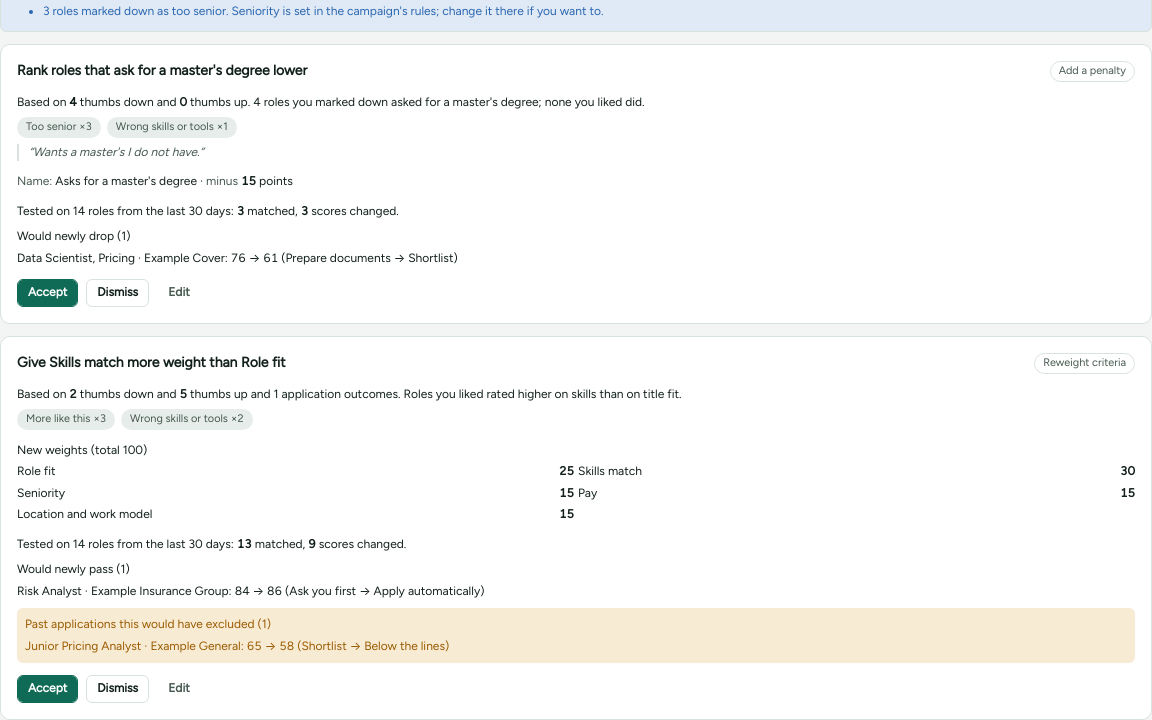
Test: suggestions › dismisses a suggestion, analyses for new ones, and shows owner-only notes as info
(page scrolled)
Check: the list item "3 roles marked down as too senior" is shown, box [43, 4, 603, 18]
Check: the element "Give Skills match more weight than Role fit" shows "Past applications this would have excluded (1)", box [0, 336, 1151, 719]
Step 1. Click the button "Dismiss" below "Junior Pricing Analyst" → (118, 689), box [86, 675, 149, 703]
(page scrolled)
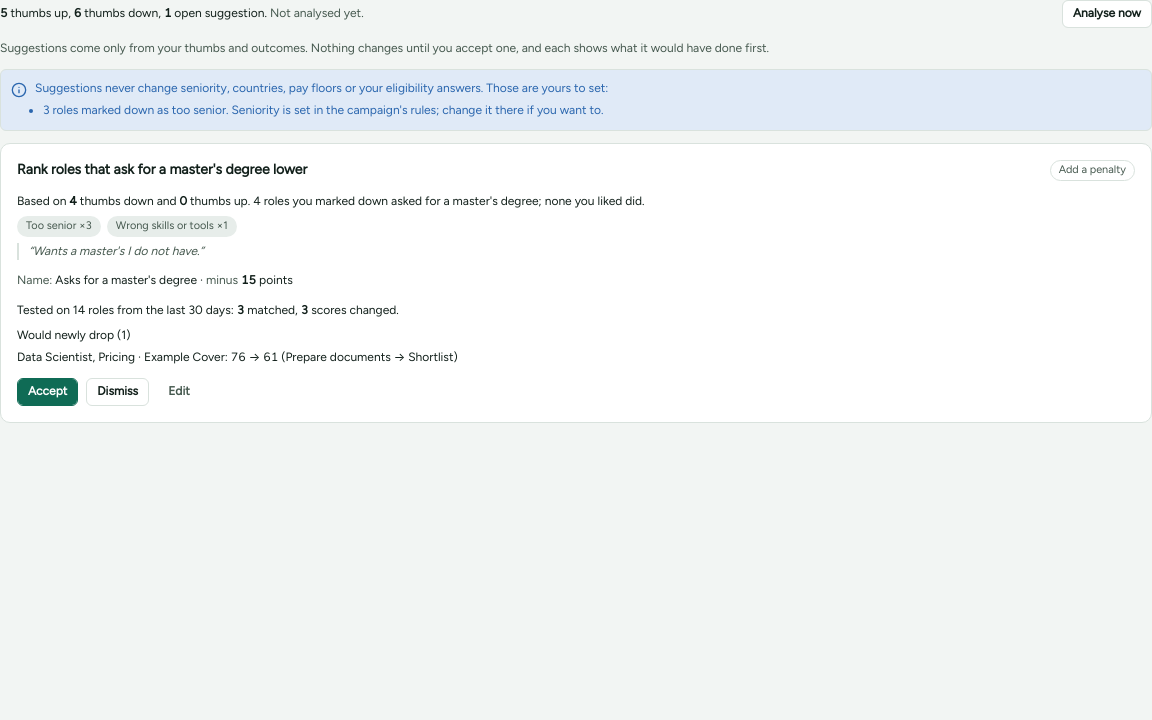
Check: the heading "Give Skills match more weight than Role fit" is gone
Step 2. Click the button "Analyse now" → (1107, 14), box [1062, 0, 1151, 28]
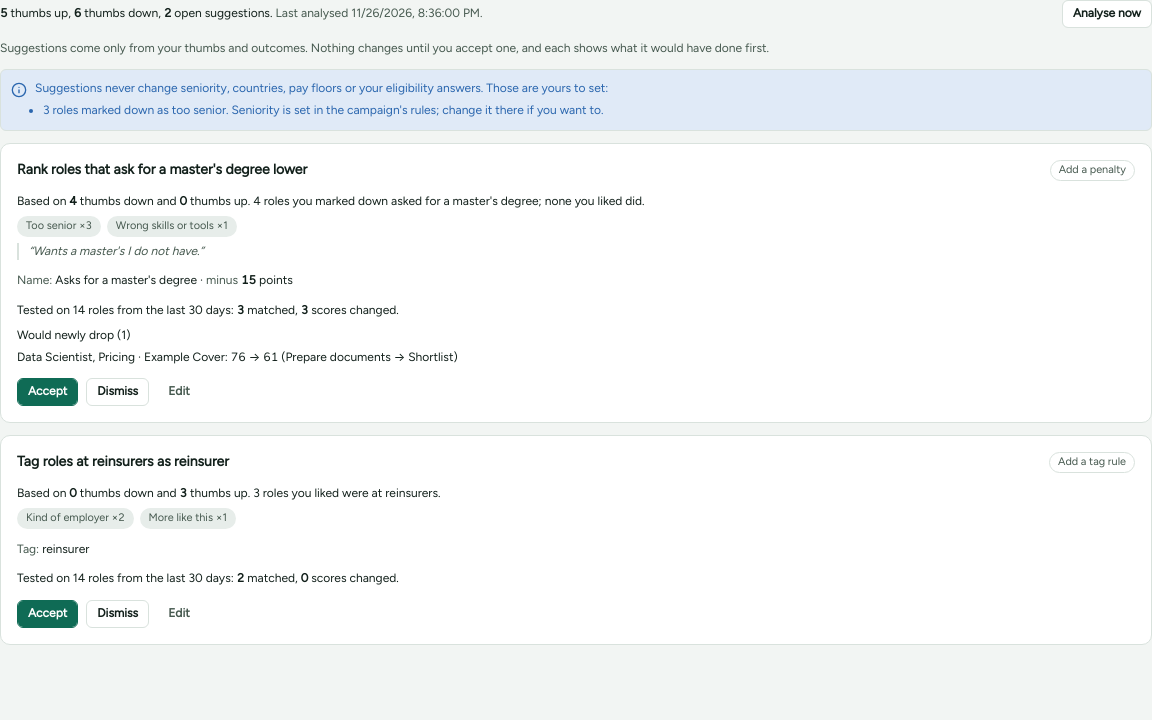
Check: the element "Tag roles at reinsurers as reinsurer" is shown, box [0, 435, 1151, 645]
